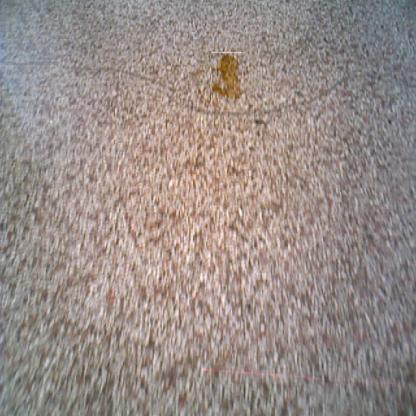liquid: (210, 52, 242, 99)
